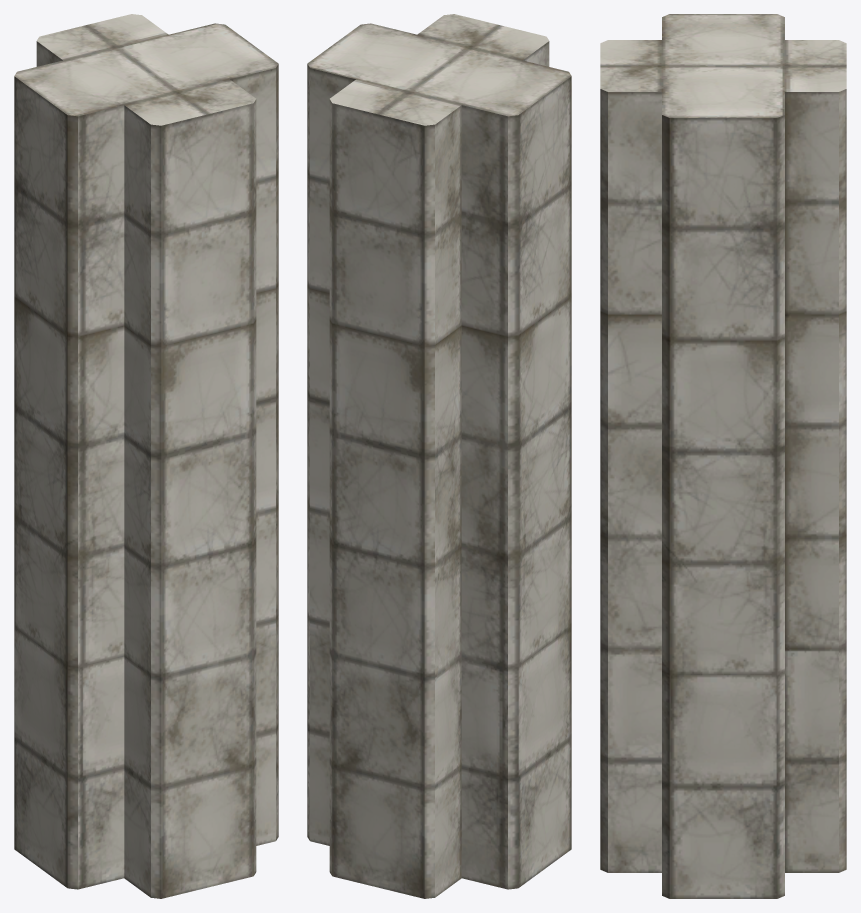
File: Med_Pillar_ALT2.obj
3 renders of one model, left to right at view 1: azimuth 30°, elevation 25°; view 2: azimuth 150°, elevation 25°; view 3: azimuth 270°, elevation 25°, orthographic.
Parts seen in each view (by area): view 1: Med_Pillar_ALT; view 2: Med_Pillar_ALT; view 3: Med_Pillar_ALT.
Part boxes in pixels (x1,y1,x2,y2): Med_Pillar_ALT: [14, 14, 278, 898]; Med_Pillar_ALT: [307, 14, 571, 898]; Med_Pillar_ALT: [600, 14, 846, 898].
Size of the model in its own units: 64 by 224 by 64.
Materials: 1 (1 with a texture image).
